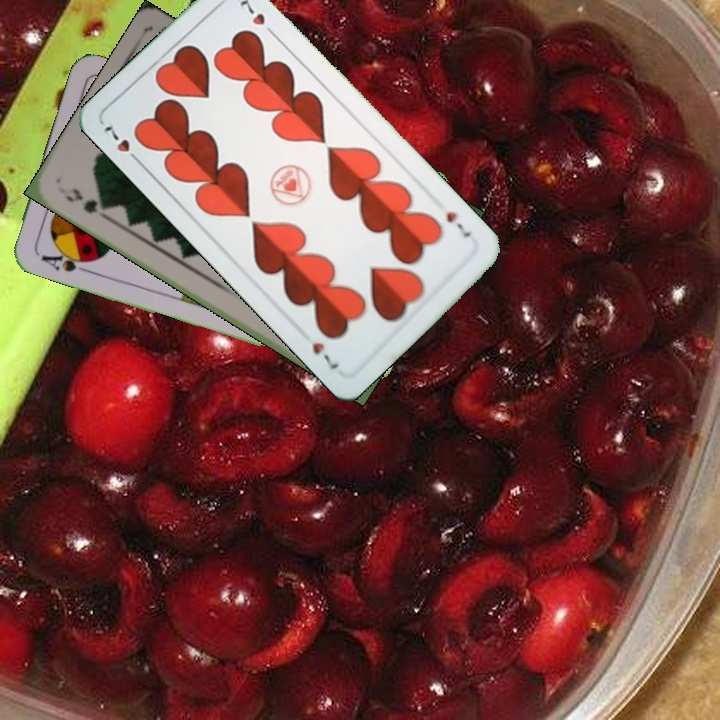G9: (61, 183, 111, 221)
H7: (100, 121, 145, 167), (442, 207, 474, 241)
SA: (37, 245, 94, 275)
